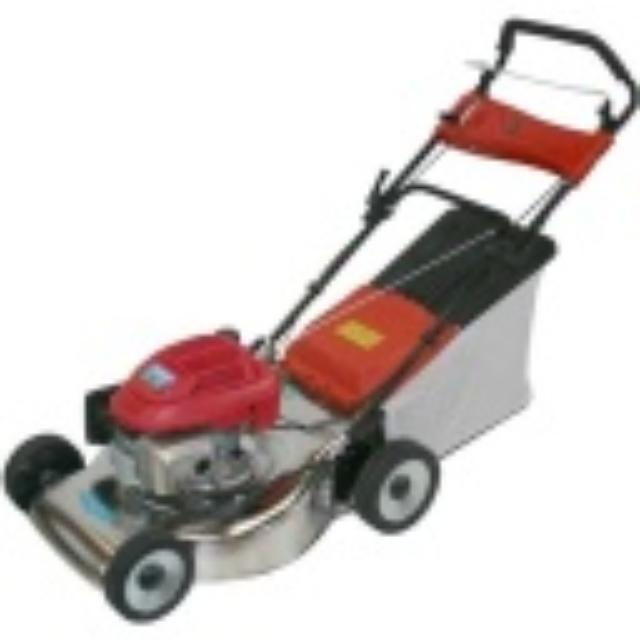Rotary-Mower: (1, 16, 636, 620)
